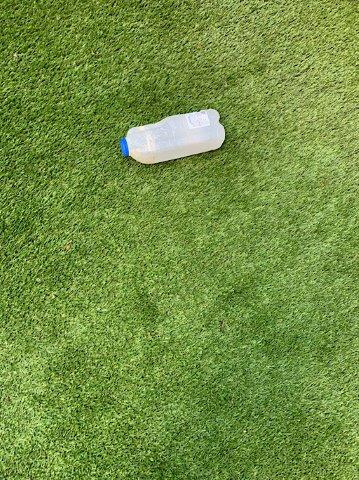botolplastik: (121, 110, 224, 163)
